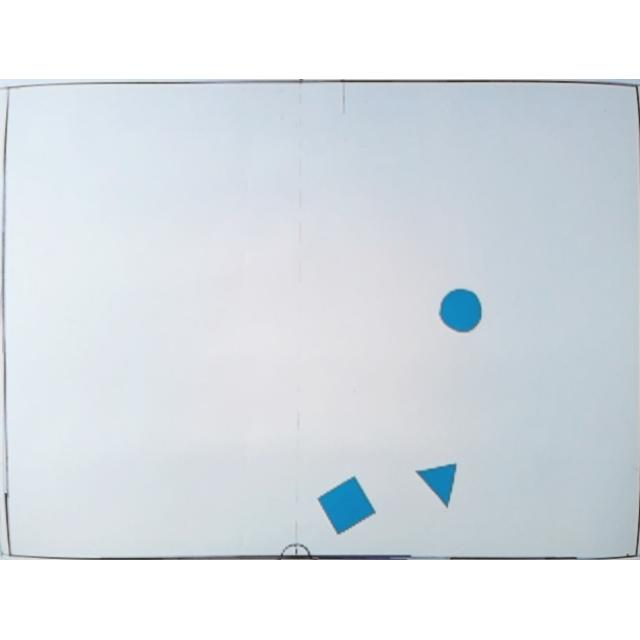blueCircle: (438, 288, 484, 338)
blueSquare: (316, 477, 376, 538)
blueTriangle: (414, 464, 458, 511)
